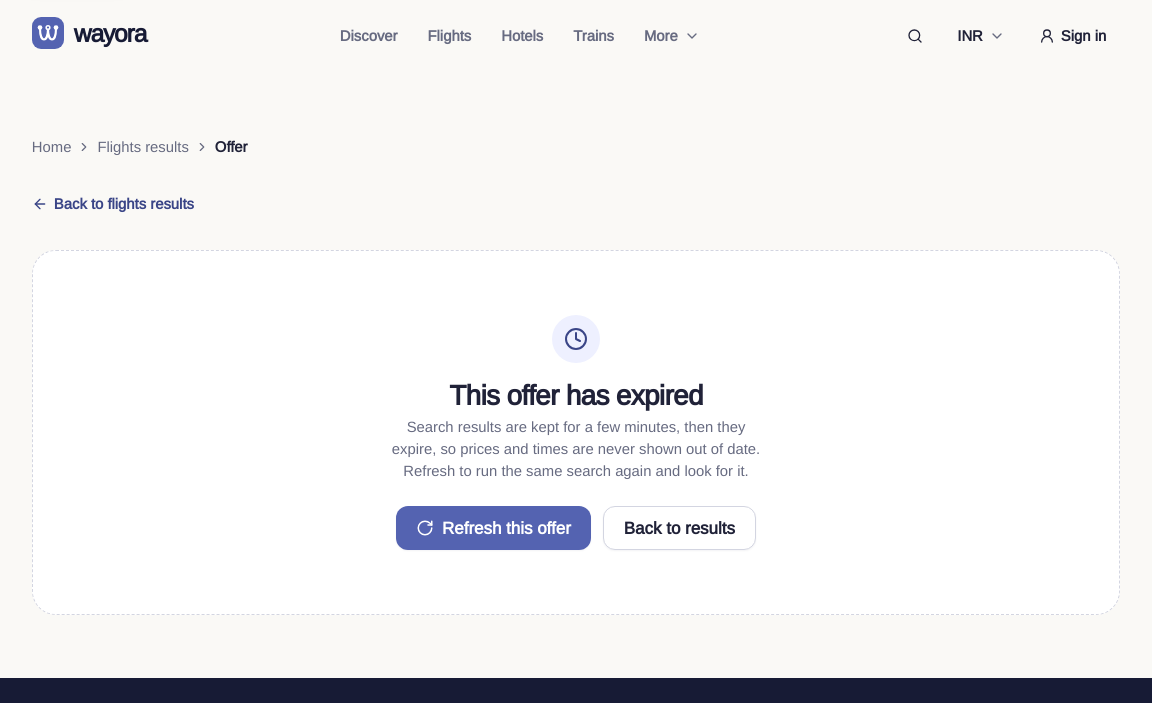
Test: offers that cannot be shown › reports an expired search, refreshes it, and finds the same offer in the new results
This screenshot has width=1152, height=703.
Expected: the text "This offer has expired" is shown, [449,378,703,411]
Click the button "Refresh this offer": (493,528) [396,506,591,550]
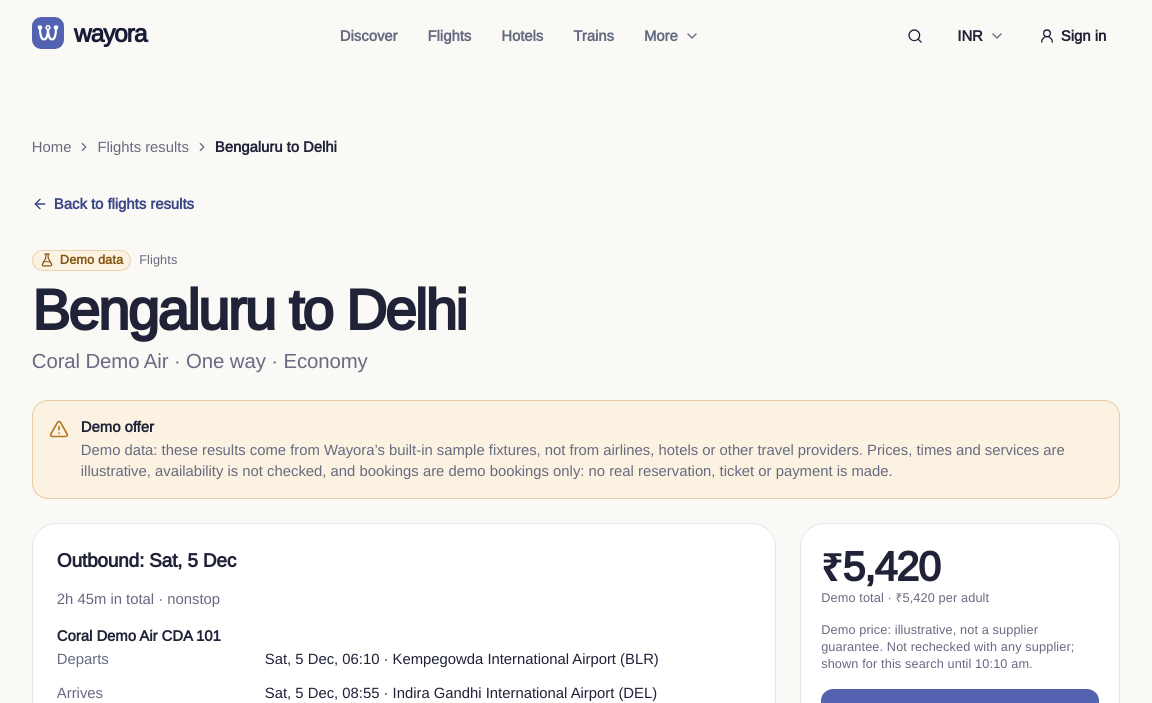
Now the heading "Bengaluru to Delhi" is shown, box [32,274,466,342]
